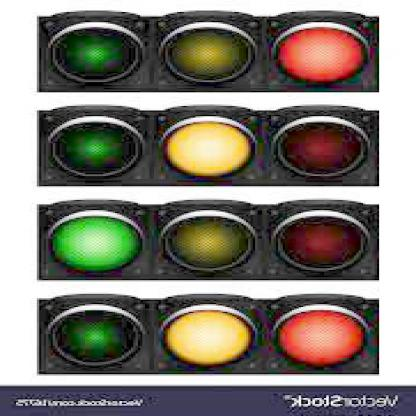traffic-light: (39, 108, 379, 190), (42, 294, 380, 371), (46, 13, 375, 91), (44, 201, 377, 276)
